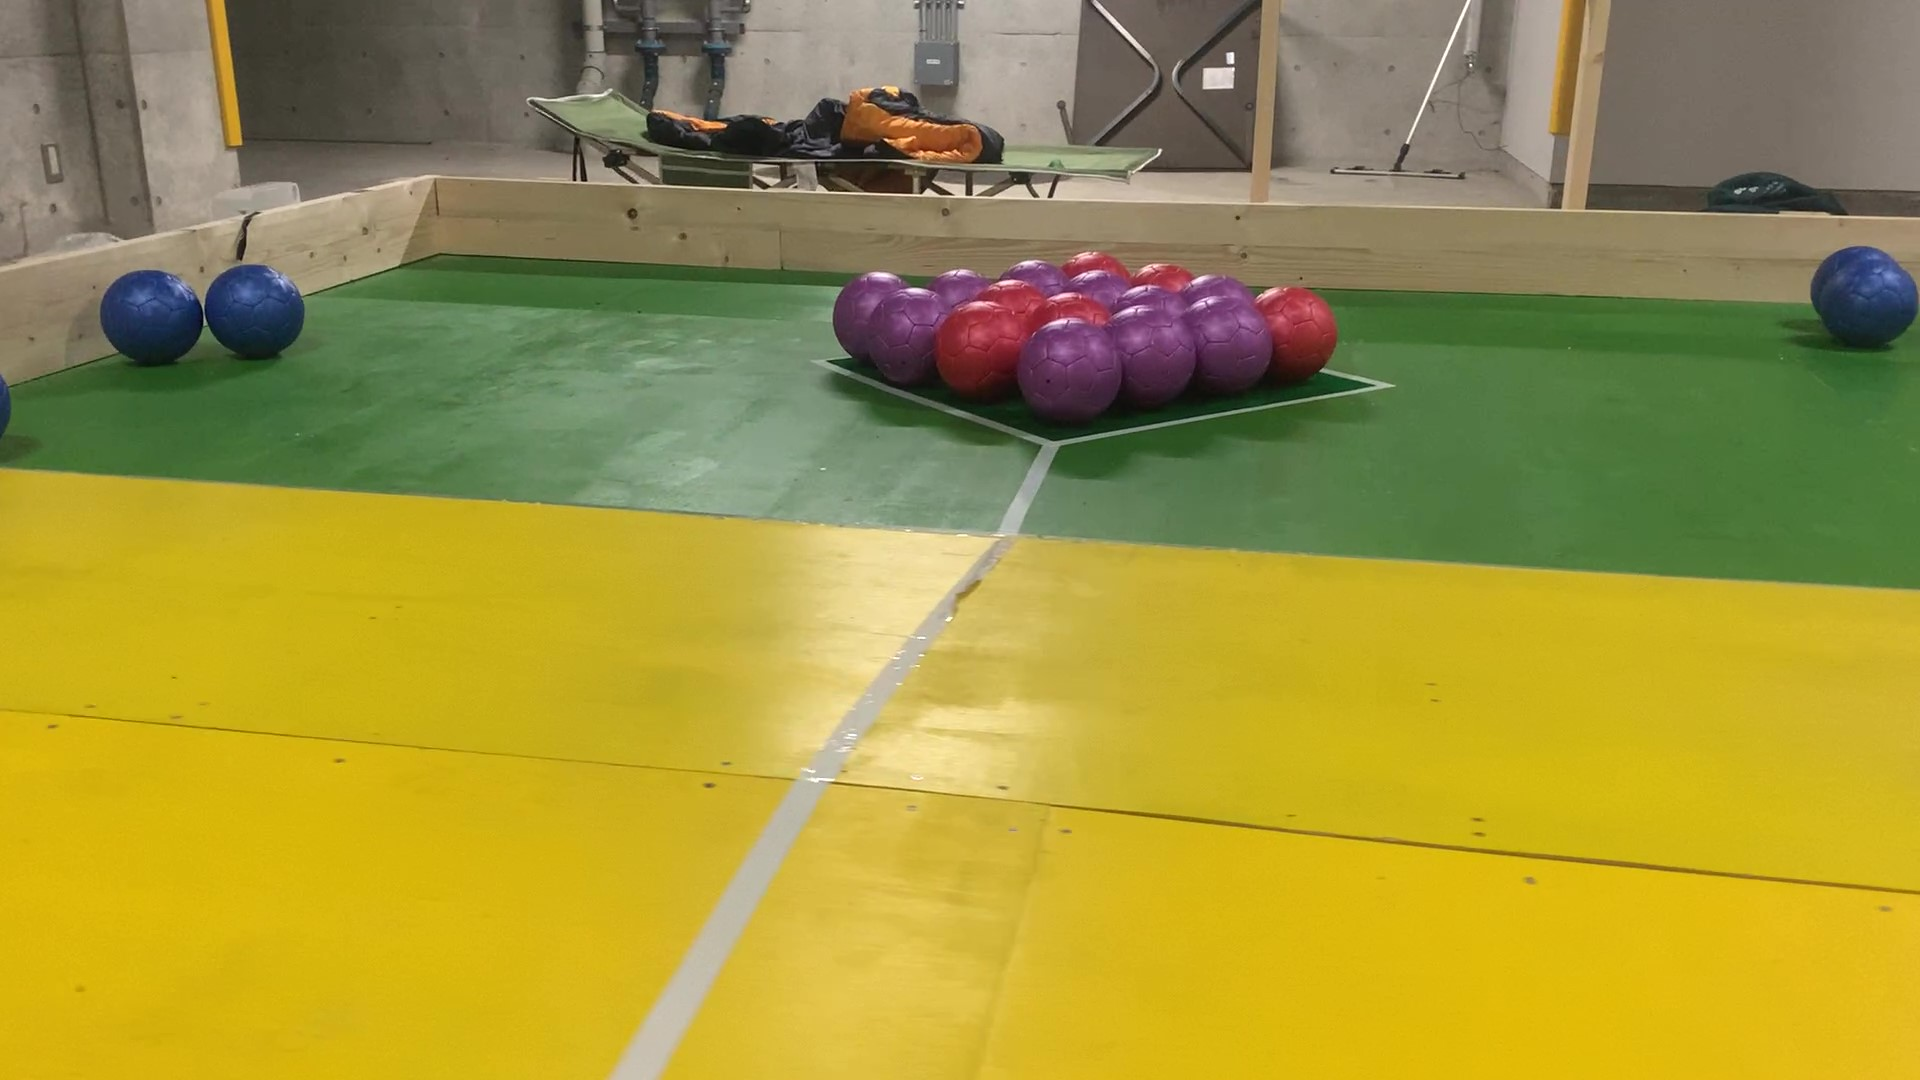blue: (109, 278, 196, 360), (211, 272, 293, 349), (1838, 272, 1907, 339), (1816, 248, 1902, 260), (0, 376, 8, 434)
purple: (1030, 334, 1106, 411), (1118, 309, 1183, 392), (1199, 299, 1257, 384), (880, 301, 934, 376), (844, 281, 873, 367), (1120, 284, 1185, 310), (1010, 260, 1060, 284), (939, 276, 976, 305), (1193, 280, 1247, 294), (1069, 278, 1116, 294)
red: (1263, 293, 1335, 375), (942, 313, 1006, 396), (1040, 299, 1101, 324), (985, 287, 1035, 310), (1073, 253, 1131, 272), (1142, 265, 1193, 284)
